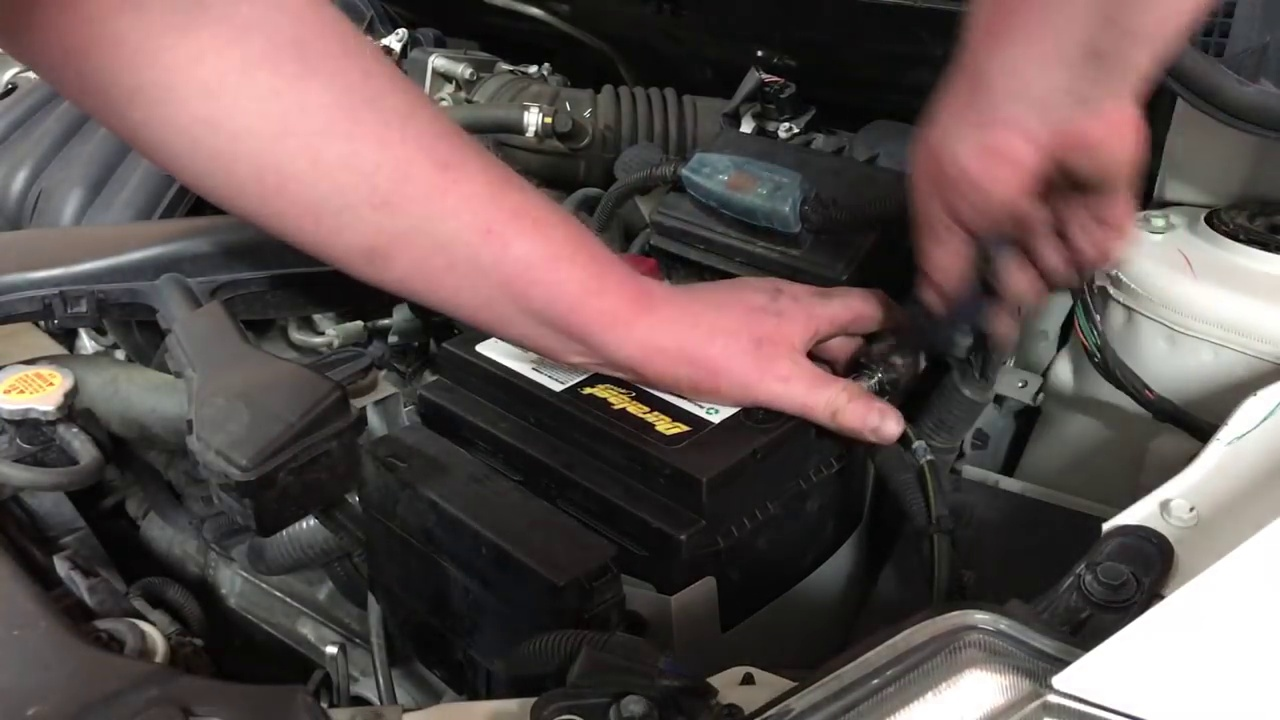battery: (434, 271, 867, 480)
